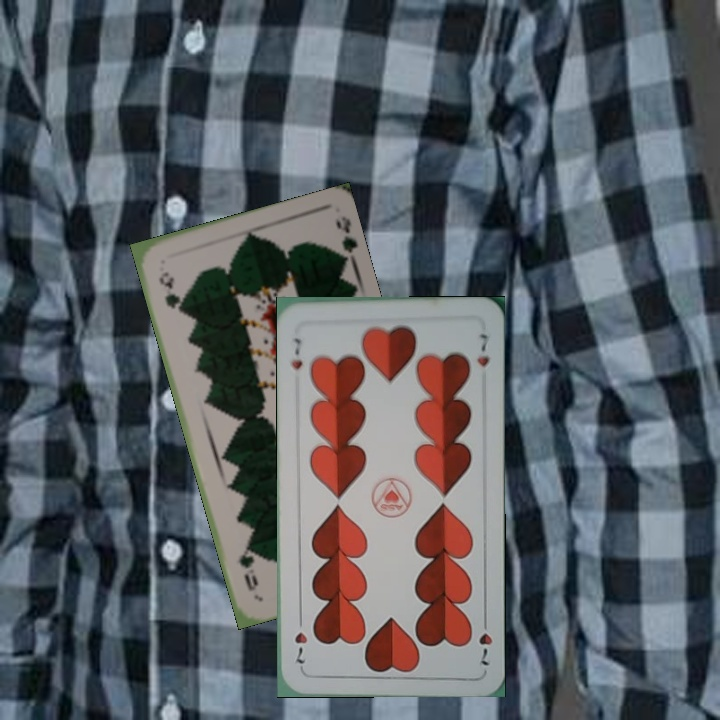G9: (155, 268, 184, 315)
H7: (475, 611, 495, 668), (287, 334, 305, 373)
